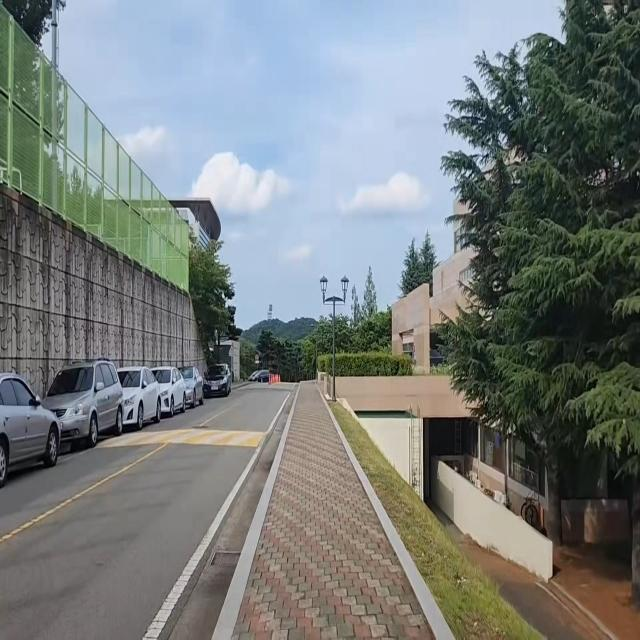sidewalk: (216, 378, 458, 640)
